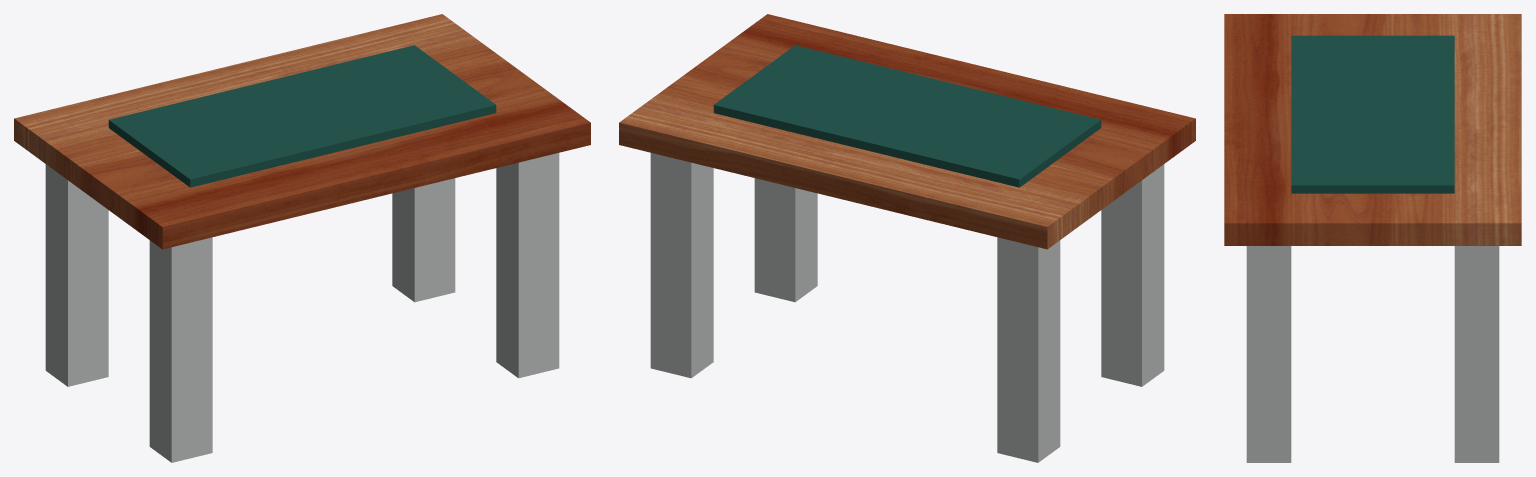
File: Workbanch 2.fbx
The picture shows the model from 3 angles, left to right: view 1: azimuth 30°, elevation 25°; view 2: azimuth 150°, elevation 25°; view 3: azimuth 270°, elevation 25°; orthographic projection.
Parts seen in each view (by area): view 1: pCube3; view 2: pCube3; view 3: pCube3.
Boxes of the visible parts, left/top/right/bottom form: pCube3: left=14, top=14, right=590, bottom=462; pCube3: left=619, top=14, right=1195, bottom=462; pCube3: left=1224, top=14, right=1521, bottom=462.
Bounding box in the file's own units: 200 × 115 × 120.
